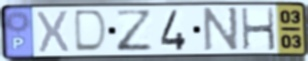4: (160, 9, 188, 52)
D: (72, 8, 110, 54)
H: (240, 6, 278, 52)
N: (202, 5, 240, 53)
X: (35, 9, 71, 55)
Z: (113, 8, 156, 54)
